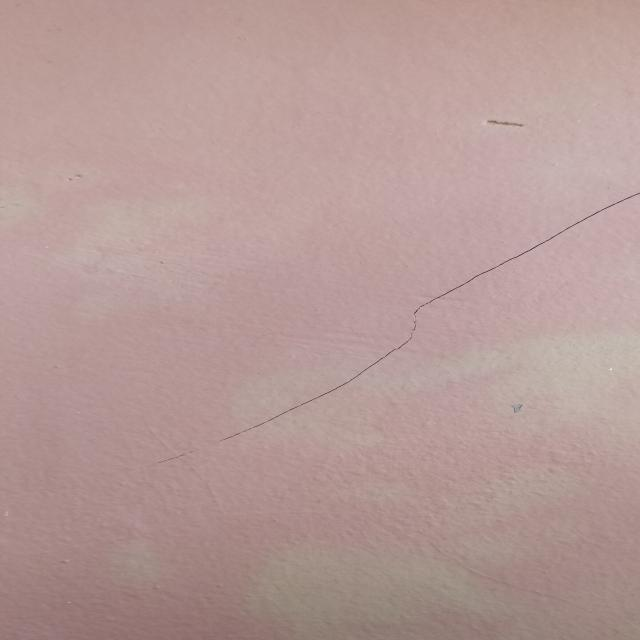Crack: (143, 188, 640, 470)
